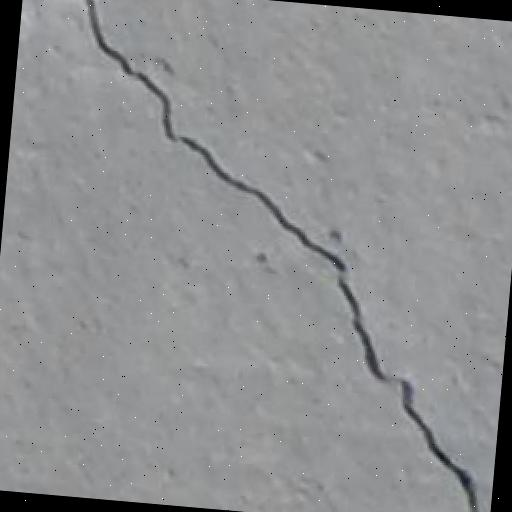spalling: (70, 0, 485, 512)
